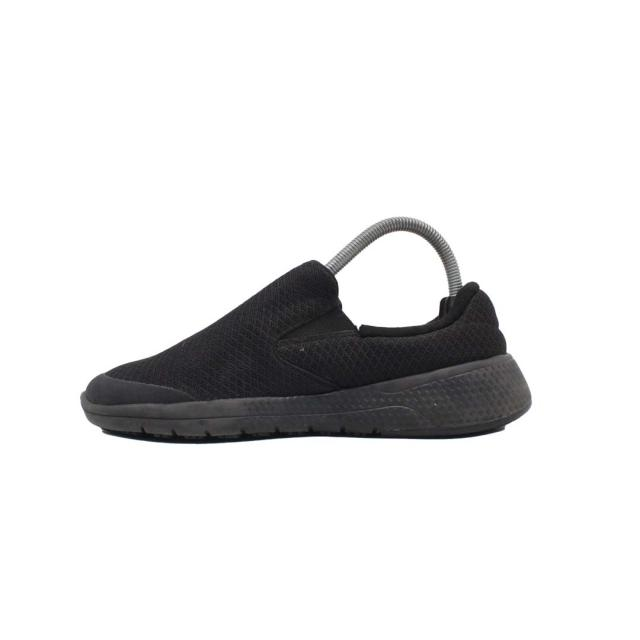heel: (452, 240, 502, 358)
midsole: (80, 354, 534, 445)
uppersole: (57, 273, 447, 402)
